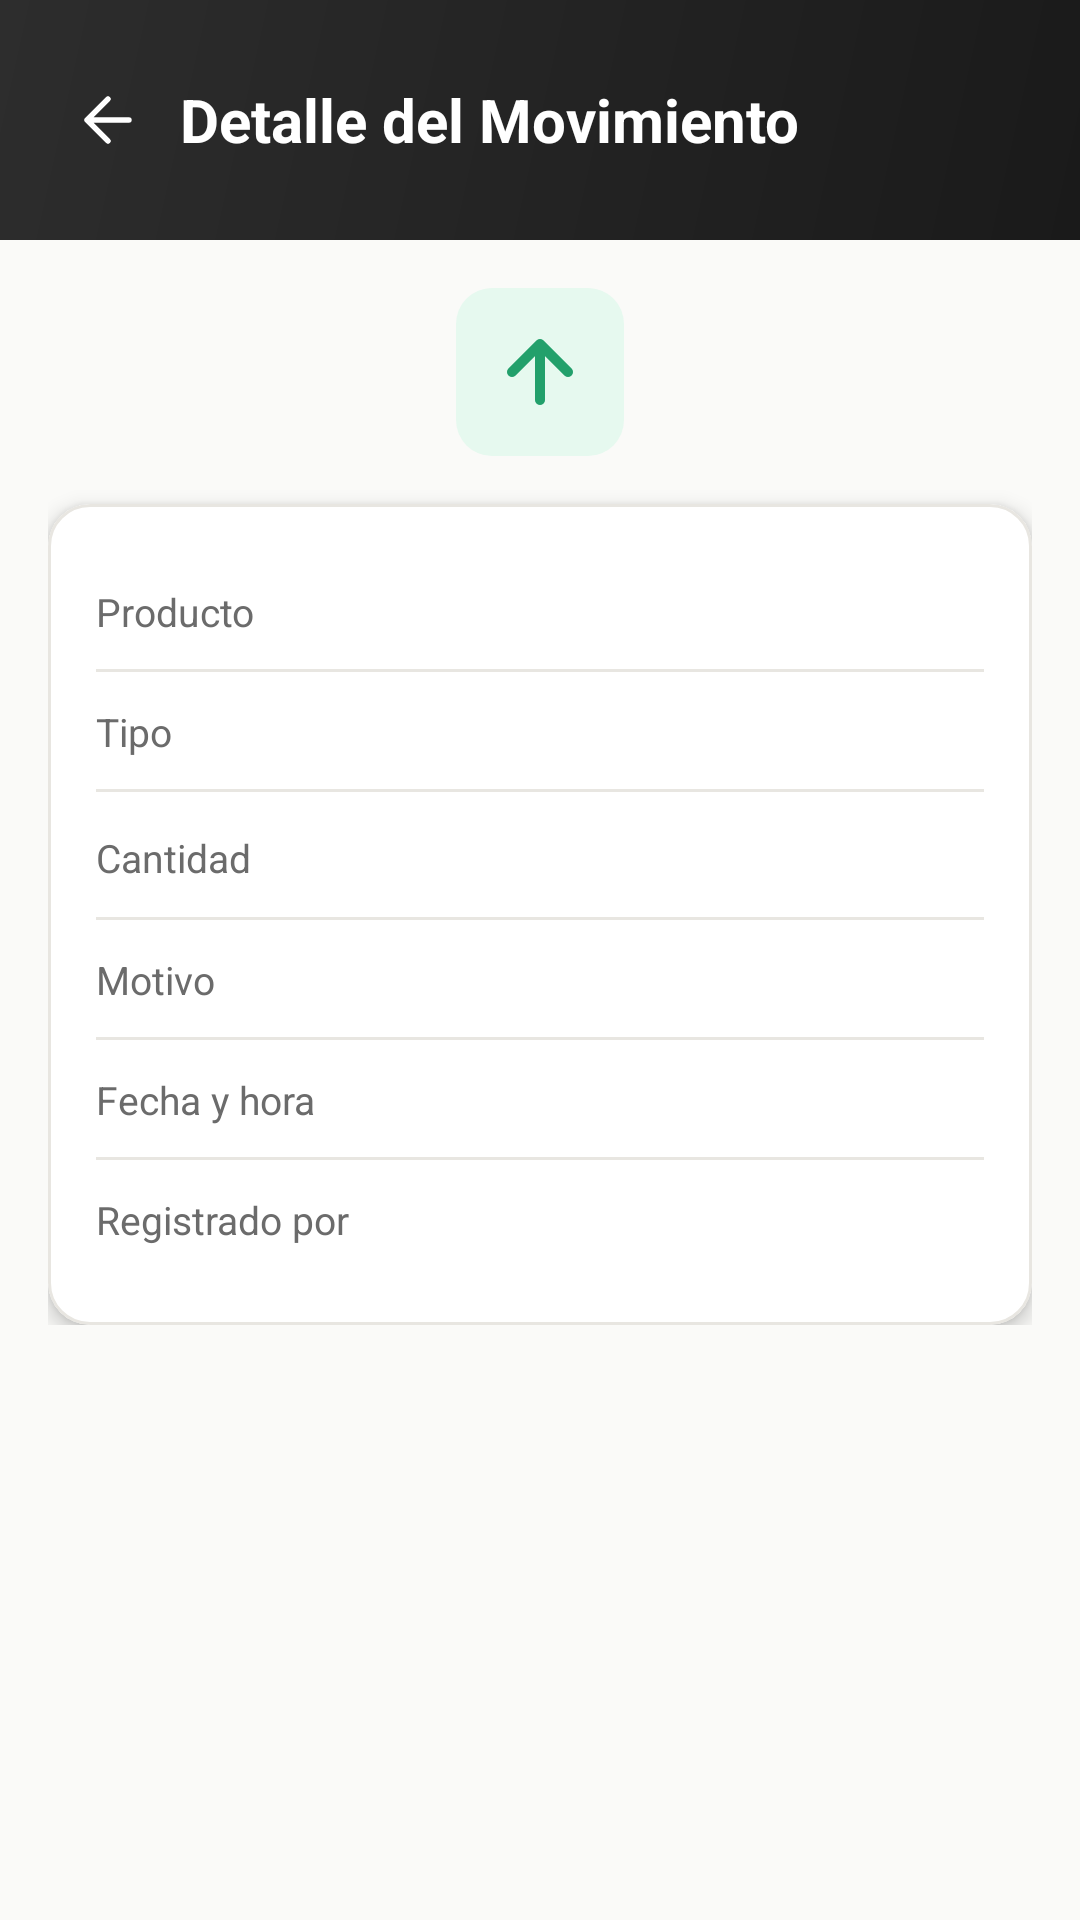

Where icons sit on this 1080x1920 app screen, as BBox(x1, y1, x2, y2):
arrow up: BBox(507, 339, 573, 405)
back: BBox(84, 96, 132, 144)
